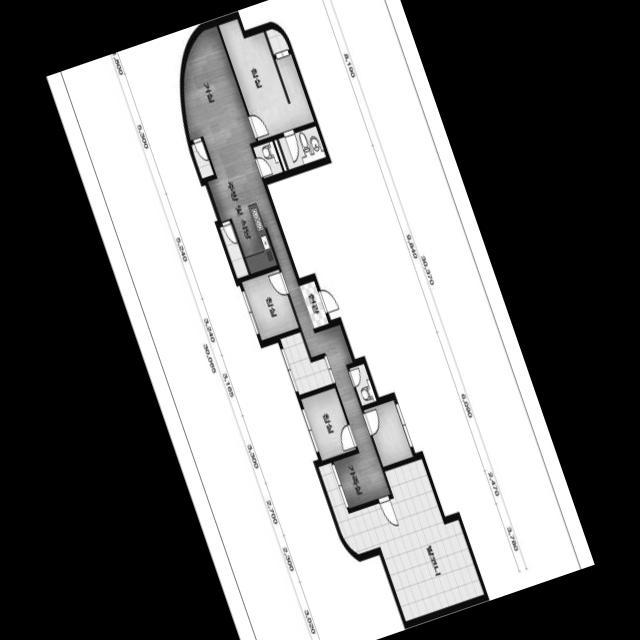background: (46, 0, 594, 640)
space_balconi: (318, 459, 483, 621), (280, 332, 333, 394), (220, 223, 248, 278), (191, 141, 213, 178), (265, 29, 289, 54)
space_bedroom: (218, 19, 296, 140), (241, 269, 298, 340), (301, 388, 355, 460), (363, 399, 412, 466)
space_dressroom: (275, 53, 313, 126)
space_front: (298, 281, 328, 328)
space_kitchen: (207, 167, 277, 274)
space_living_room: (184, 26, 390, 508)
space_toilet: (278, 126, 326, 169), (349, 363, 376, 405), (253, 141, 282, 178)
